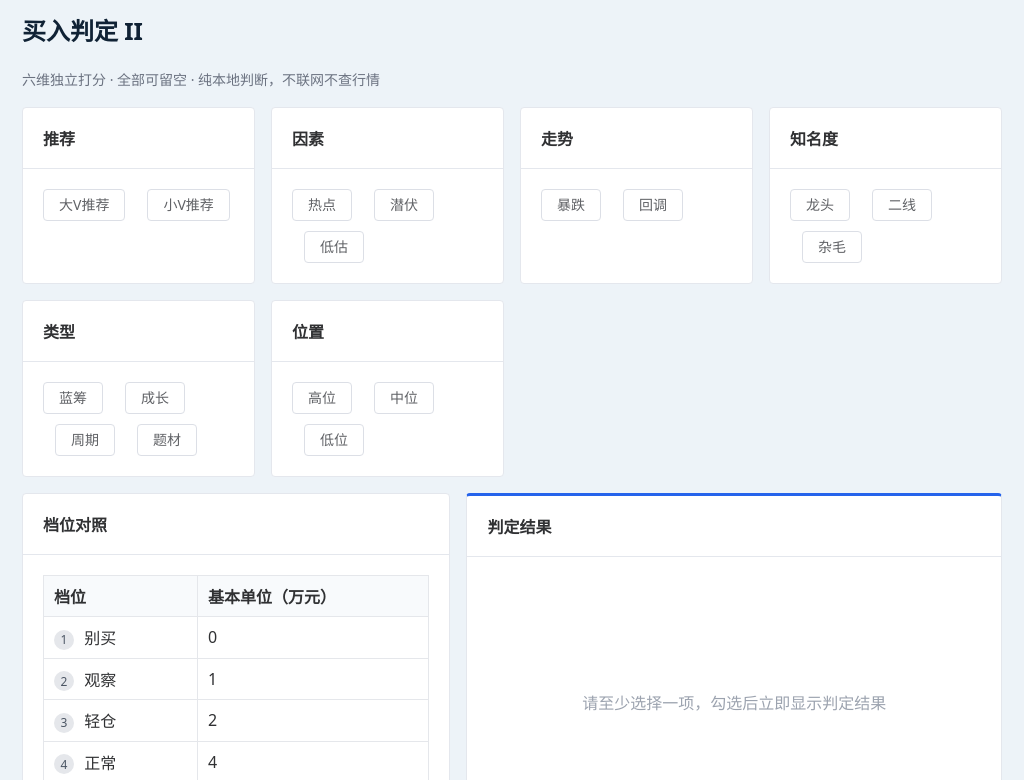
Test case: BuyDecisionII › vetoes hot factor at high position regardless of positives
Click the button with test id "recommends-大V推荐" at (84, 205), box [43, 189, 125, 221]
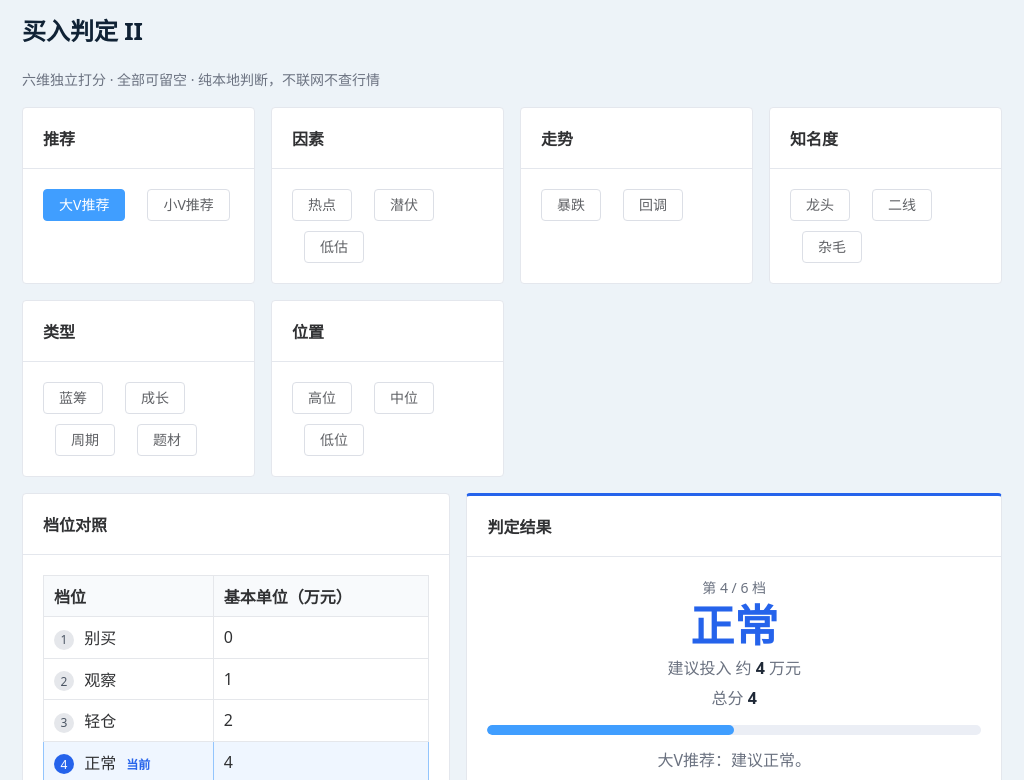
Click the button with test id "type-蓝筹" at (73, 398), box [43, 382, 103, 414]
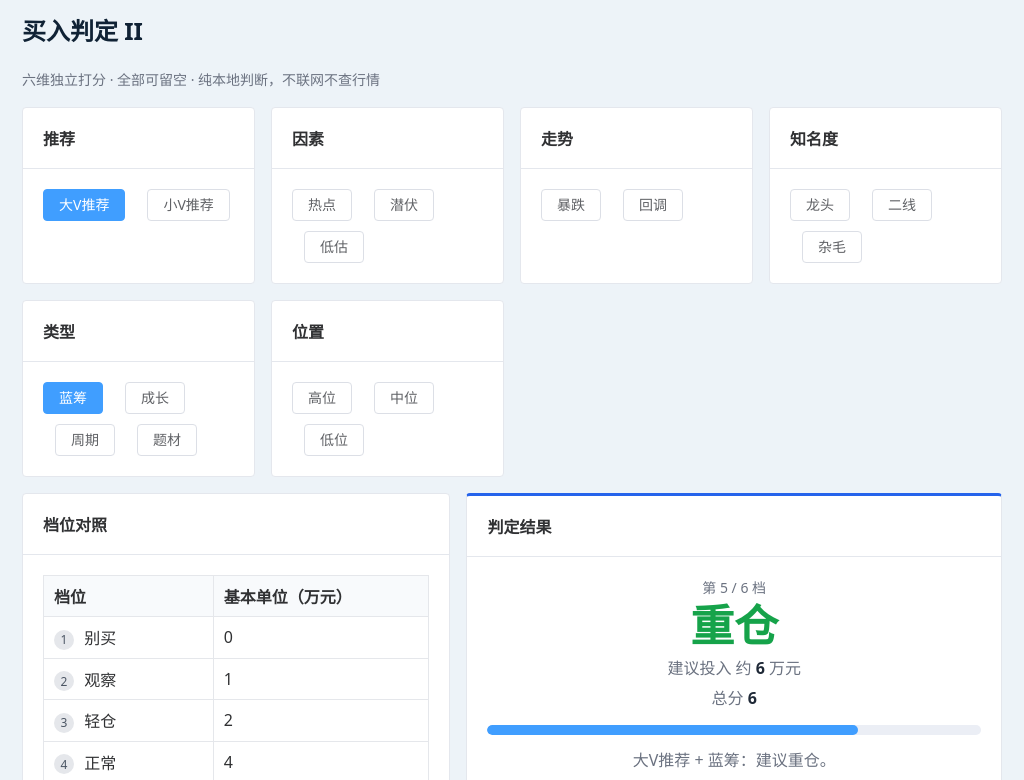
Click the button with test id "factor-热点" at (322, 205), box [292, 189, 352, 221]
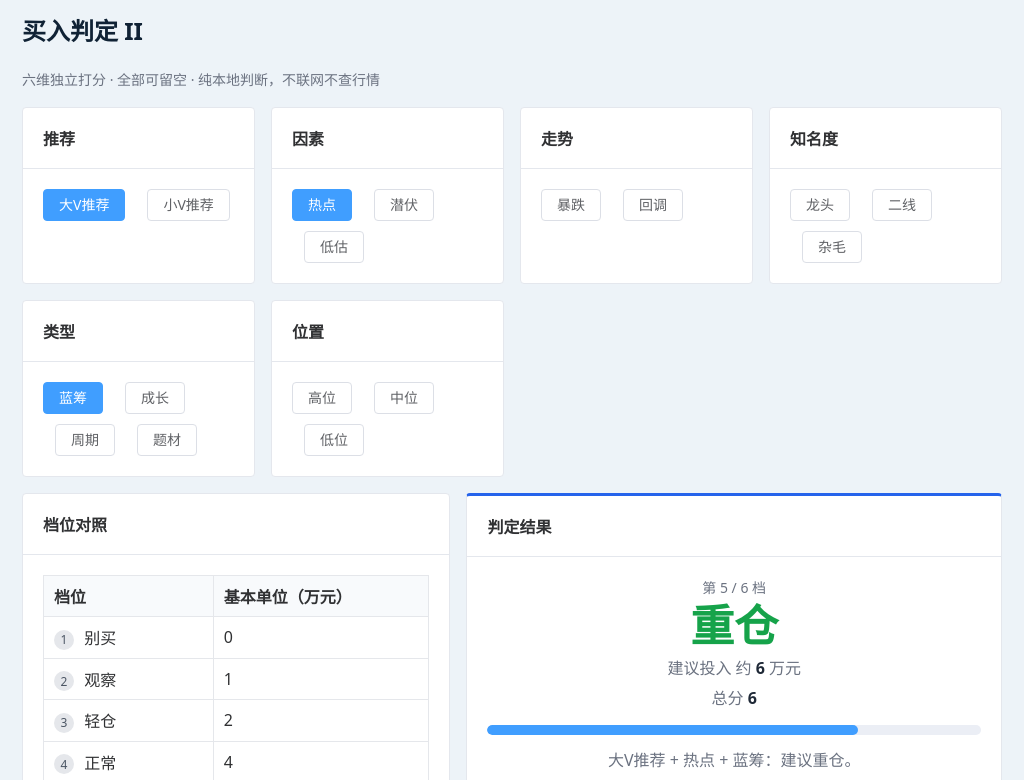
Click the button with test id "position-高位" at (322, 398), box [292, 382, 352, 414]
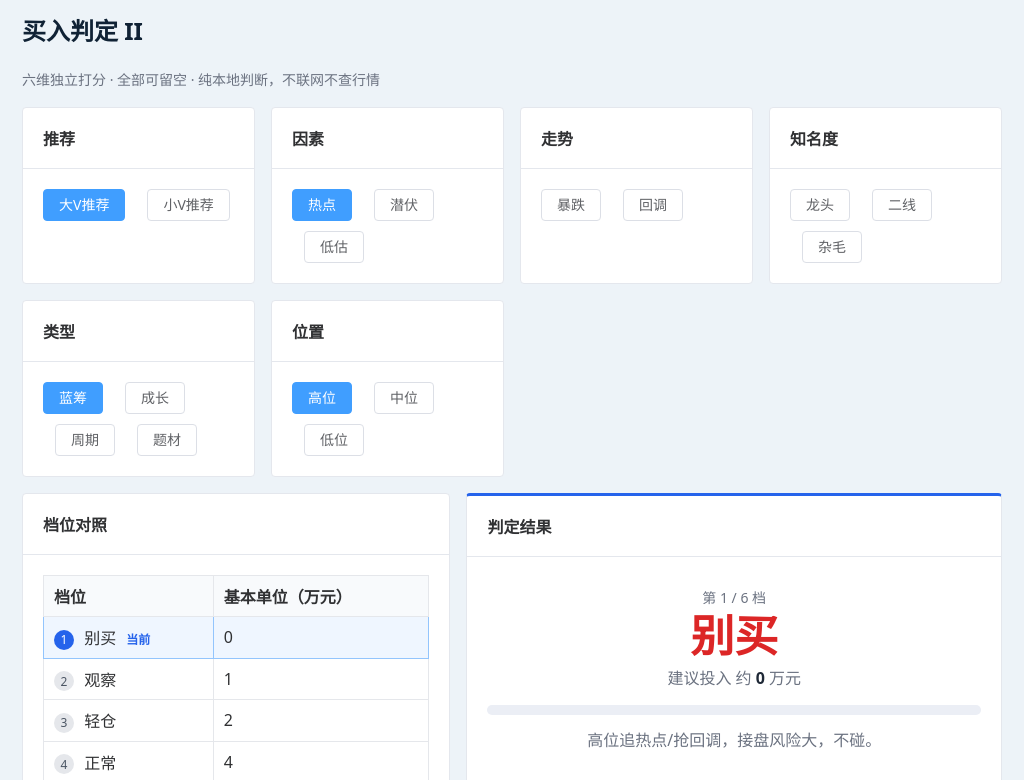
Expected: the text with test id "result-level" reads "别买", [690, 605, 778, 665]
Expected: the element with test id "result-units" shows "0", [756, 667, 765, 689]
Expected: the text with test id "result-note" shows "不碰", [587, 729, 881, 751]
